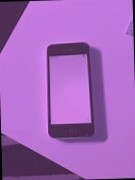iphone: (46, 39, 98, 137)
